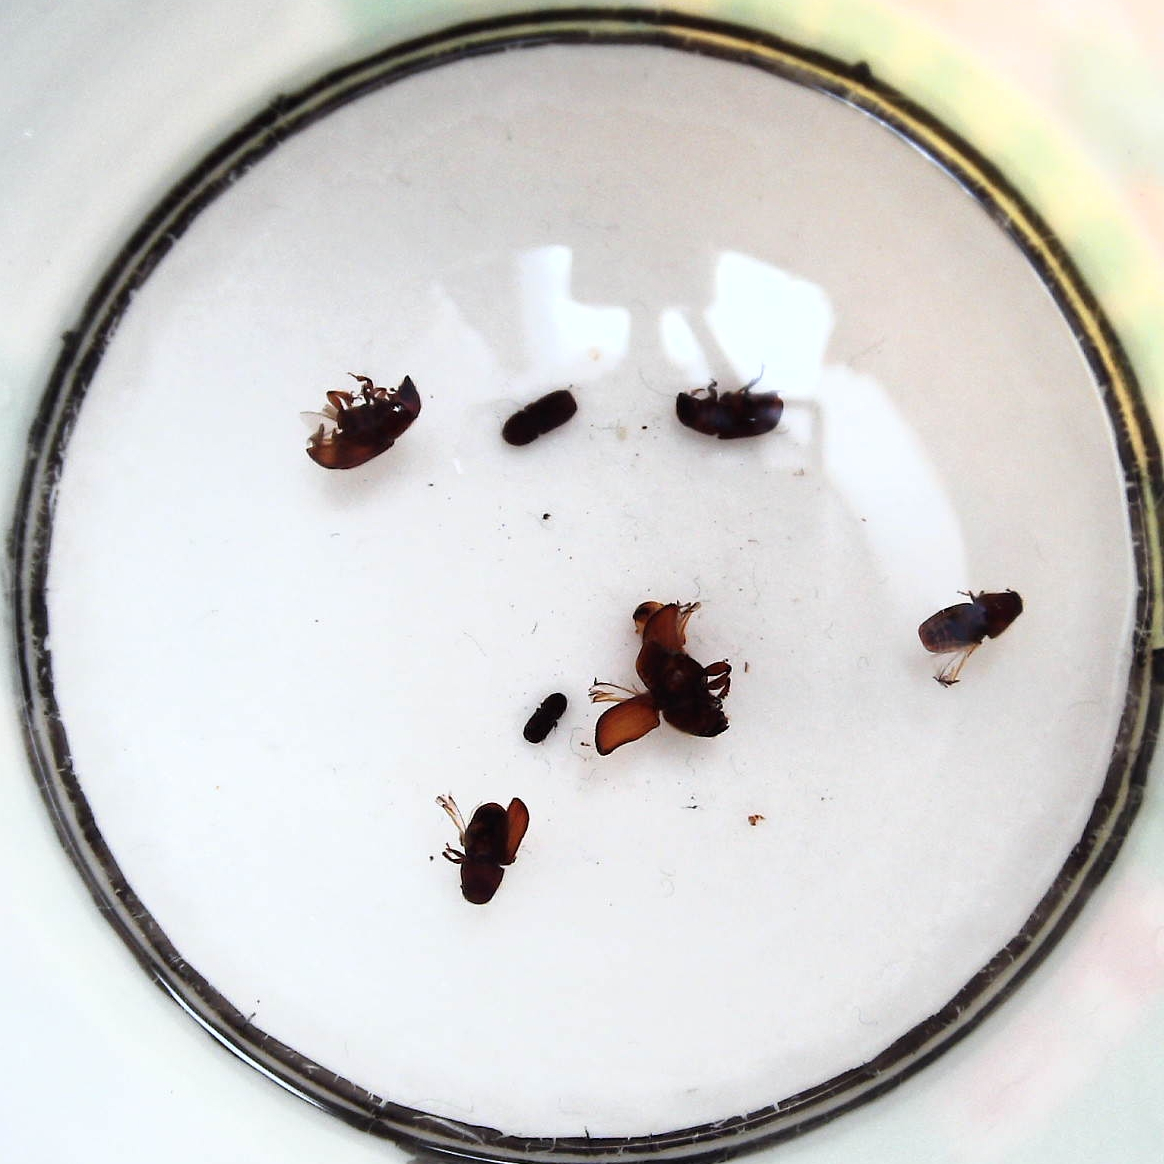Leconte: (594, 635, 737, 755), (304, 373, 424, 469), (450, 794, 532, 902), (917, 587, 1024, 666), (670, 378, 785, 444)
Linnaeus: (501, 389, 586, 448)
coleoptera: (521, 691, 571, 748)
